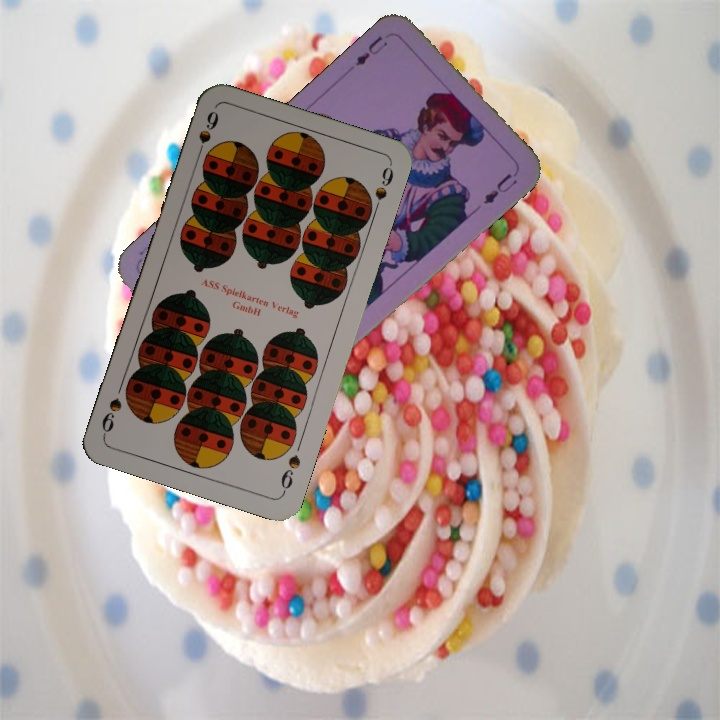EU: (351, 31, 390, 69)
S9: (192, 106, 221, 164), (276, 450, 303, 497)
